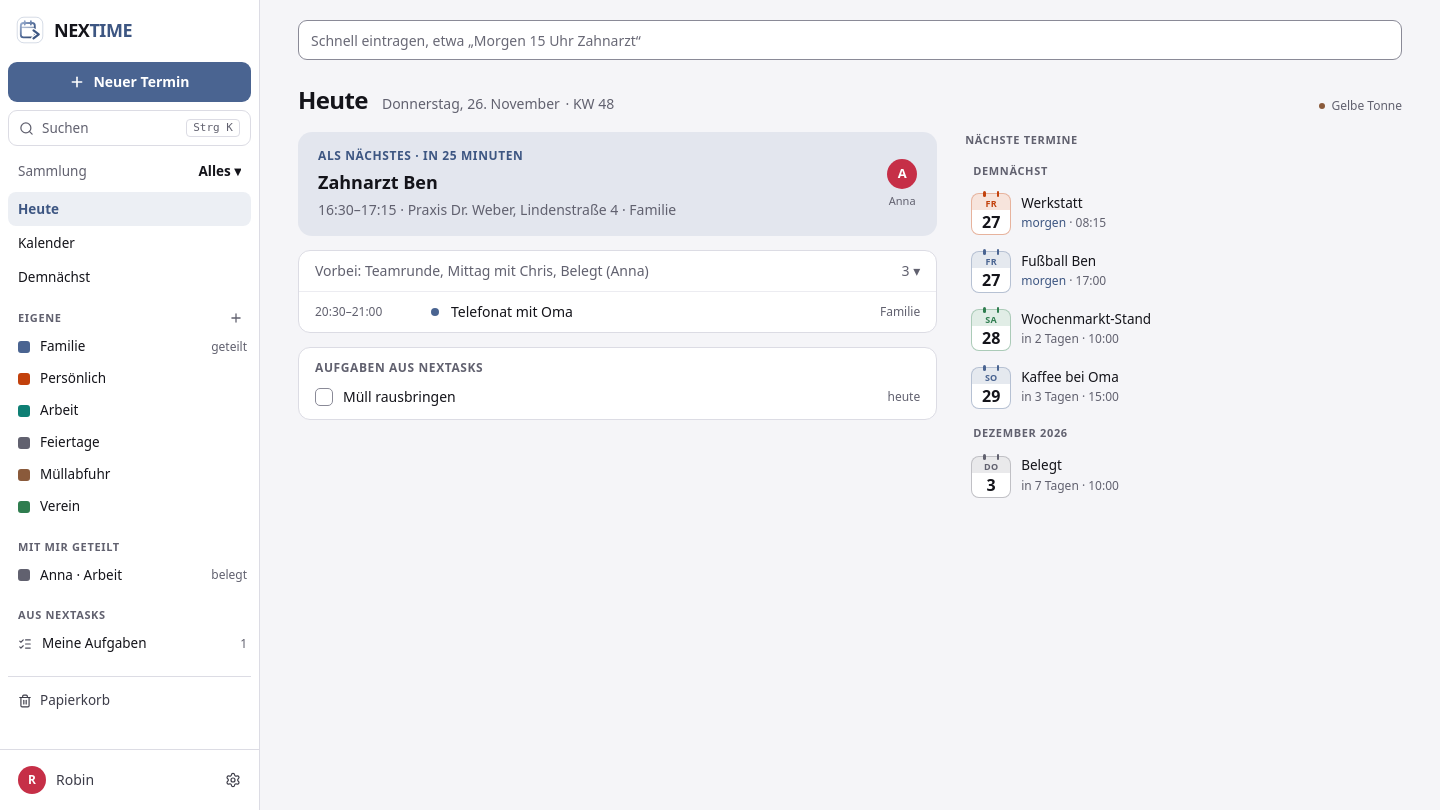
TIME-25 tasks in Today › TIME-25 AC-3 AC-9 EC-10 ticking: struck through at once, a double click is one tap, a second tap takes it back
Later steps or results of the test are not shown.
Click the checkbox with test id "task-tick": x=324, y=396 [315, 388, 333, 406]
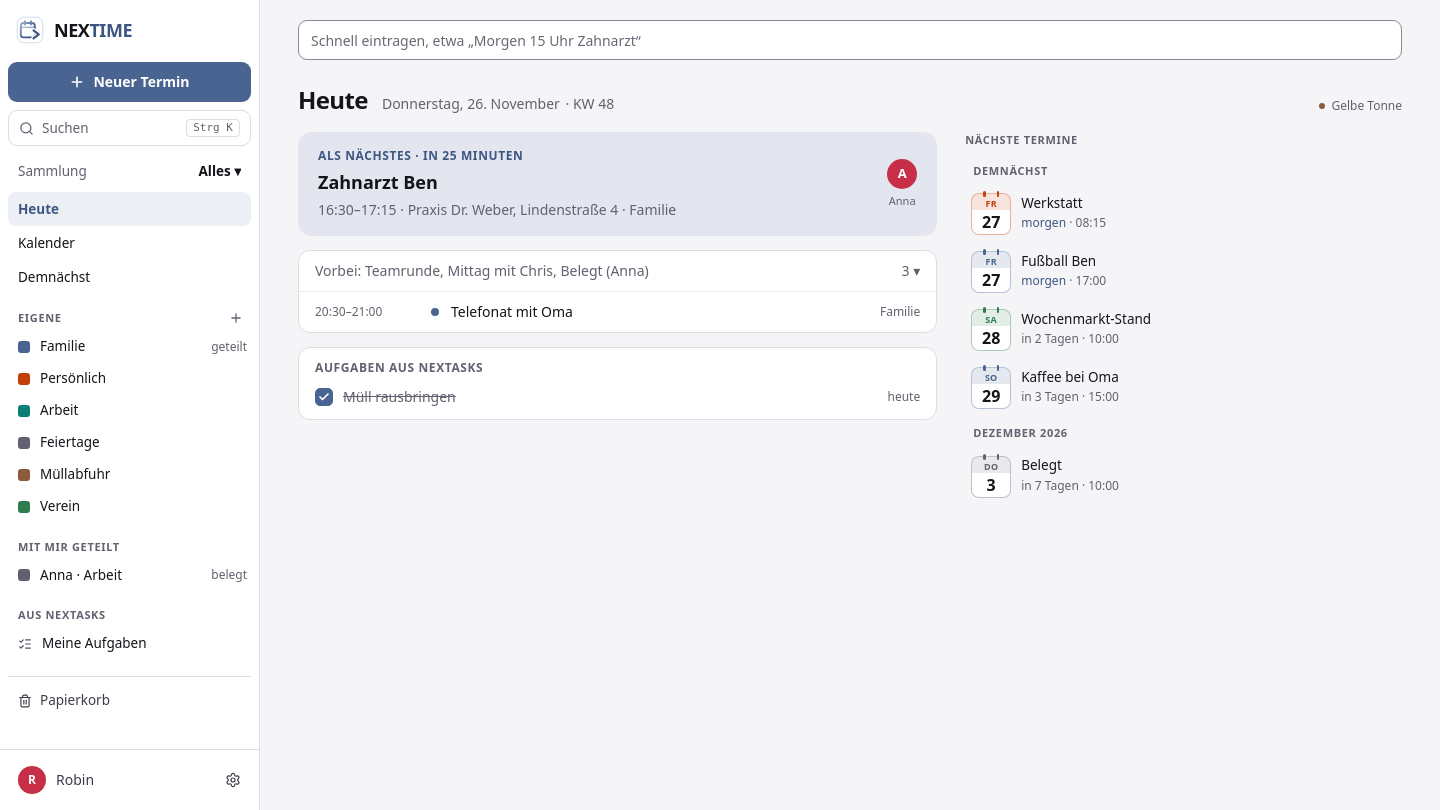
Click the checkbox with test id "task-tick": x=324, y=396 [315, 388, 333, 406]
Result: the checkbox with test id "task-tick" is checked at [315, 388, 333, 406]
Result: the button with test id "task-title" has class "nt-done" at [343, 386, 456, 407]
